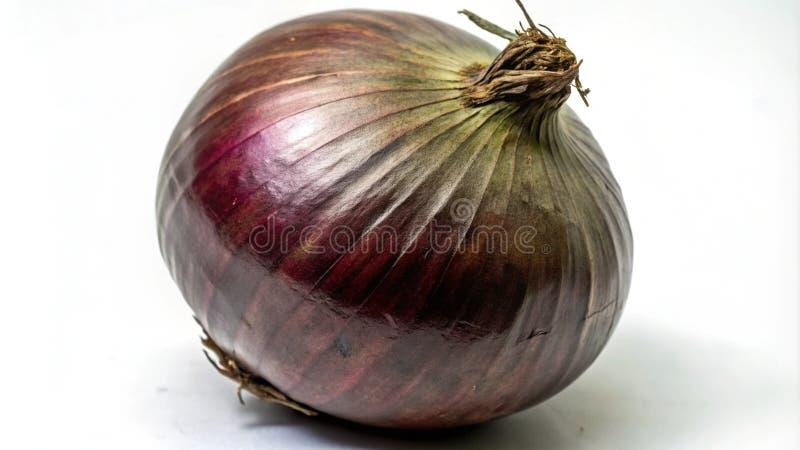Onion: (157, 9, 632, 427)
